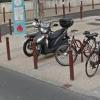Motorcycle: (12, 12, 75, 64)
